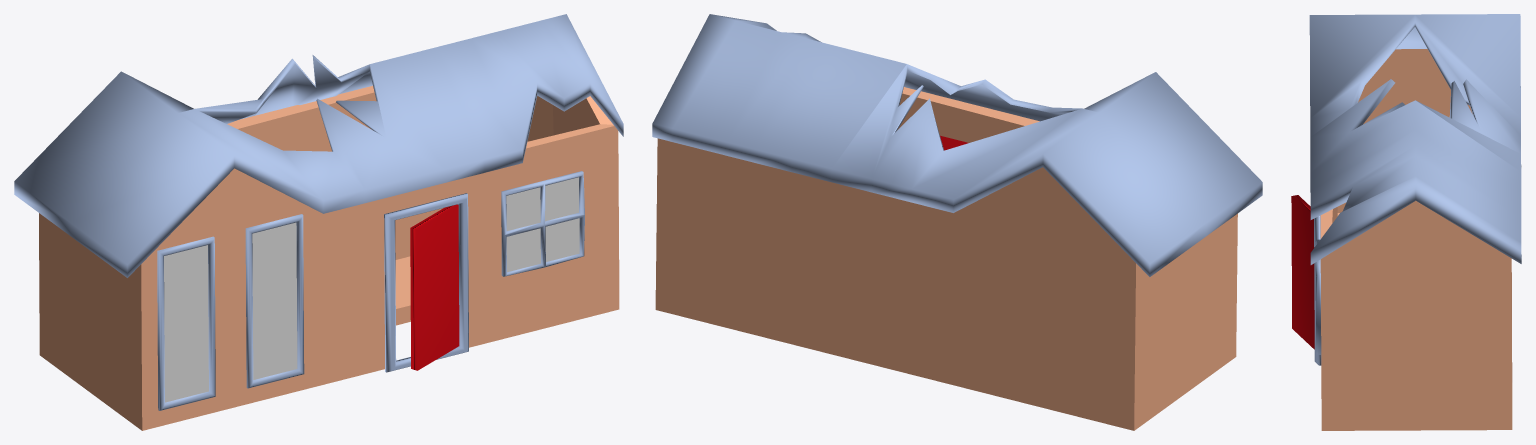
Rendered from HouseDecimated_1.fbx.
The picture shows the model from 3 angles, left to right: view 1: azimuth 30°, elevation 25°; view 2: azimuth 150°, elevation 25°; view 3: azimuth 270°, elevation 25°; orthographic projection. The views are drawn at different scales.
Parts seen in each view (by area): view 1: Cube.010, Cube.013, Cube.019, Cube.014, Cube.018, Cube.016, Cube.015, Cube.017; view 2: Cube.010, Cube.013; view 3: Cube.010, Cube.013, Cube.014, Cube.017, Cube.015.
Boxes of the visible parts, box(x1,y1,x2,y2) form: Cube.010: box(39, 85, 619, 430); Cube.013: box(14, 14, 623, 277); Cube.019: box(164, 222, 297, 402); Cube.014: box(410, 204, 459, 370); Cube.018: box(157, 214, 304, 410); Cube.016: box(506, 177, 579, 272); Cube.015: box(384, 193, 468, 372); Cube.017: box(501, 171, 584, 276); Cube.010: box(655, 87, 1237, 430); Cube.013: box(652, 14, 1262, 276); Cube.010: box(1320, 49, 1512, 430); Cube.013: box(1309, 14, 1521, 264); Cube.014: box(1291, 195, 1314, 349); Cube.017: box(1315, 239, 1321, 354); Cube.015: box(1314, 215, 1321, 365).
Size of the model in its own units: 1780 by 904 by 762.
